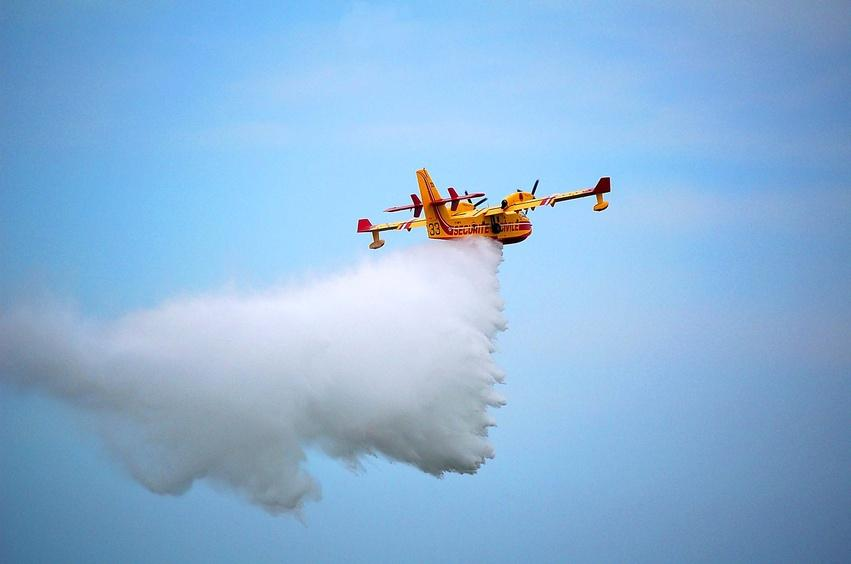Aeronef_de_service: (350, 160, 626, 254)
